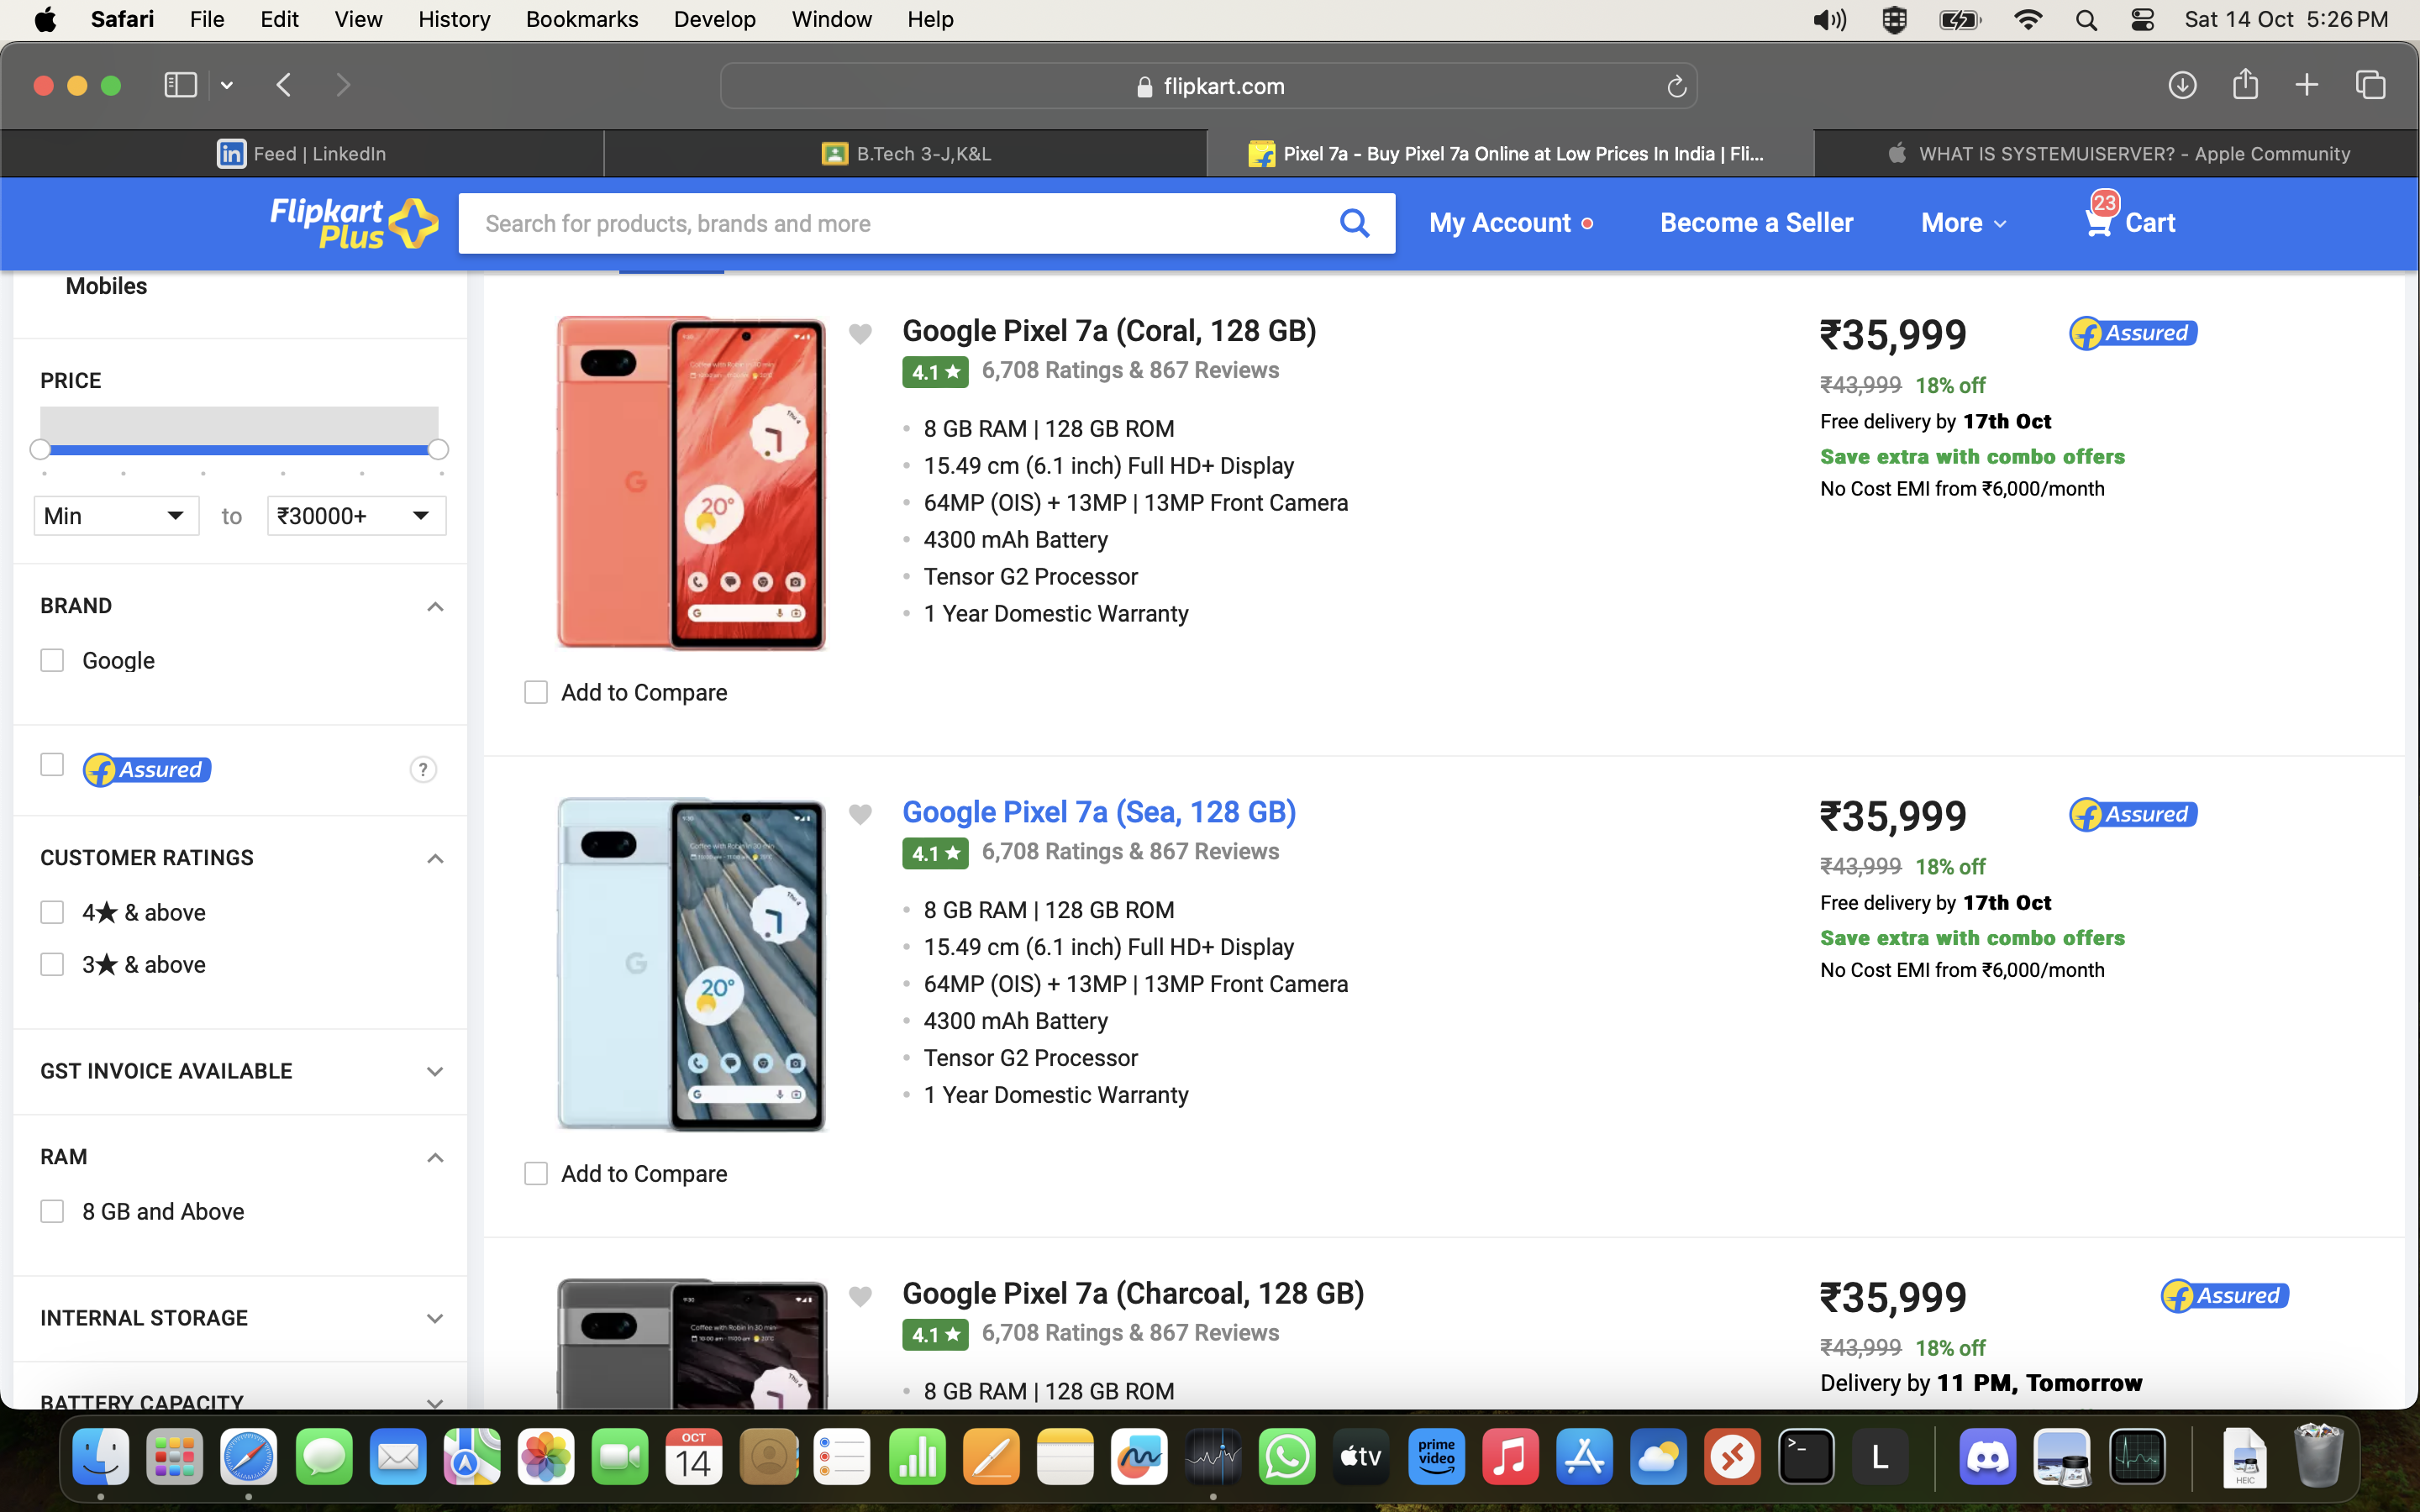Image: (545, 312, 833, 662), (559, 796, 819, 1122), (566, 1286, 822, 1413)
Paragraph: (906, 885, 1378, 1125), (909, 404, 1375, 638), (1791, 751, 2139, 1023), (1784, 1225, 2160, 1413), (1803, 308, 2133, 521), (892, 1265, 1378, 1313), (892, 789, 1342, 836), (896, 305, 1342, 347), (974, 350, 1303, 394), (953, 1310, 1331, 1345), (261, 188, 436, 261), (78, 726, 223, 803), (28, 1296, 274, 1338), (21, 840, 308, 874), (977, 840, 1310, 867), (10, 329, 117, 411), (28, 1052, 305, 1083), (1650, 206, 1876, 244), (31, 1381, 254, 1420), (64, 1186, 261, 1228), (64, 888, 237, 932), (1430, 206, 1619, 240), (2085, 195, 2192, 254), (268, 500, 401, 538), (1908, 202, 2018, 244), (61, 265, 164, 305), (24, 489, 103, 542), (75, 953, 226, 977), (38, 580, 138, 617), (75, 638, 164, 676), (17, 1134, 120, 1165)
